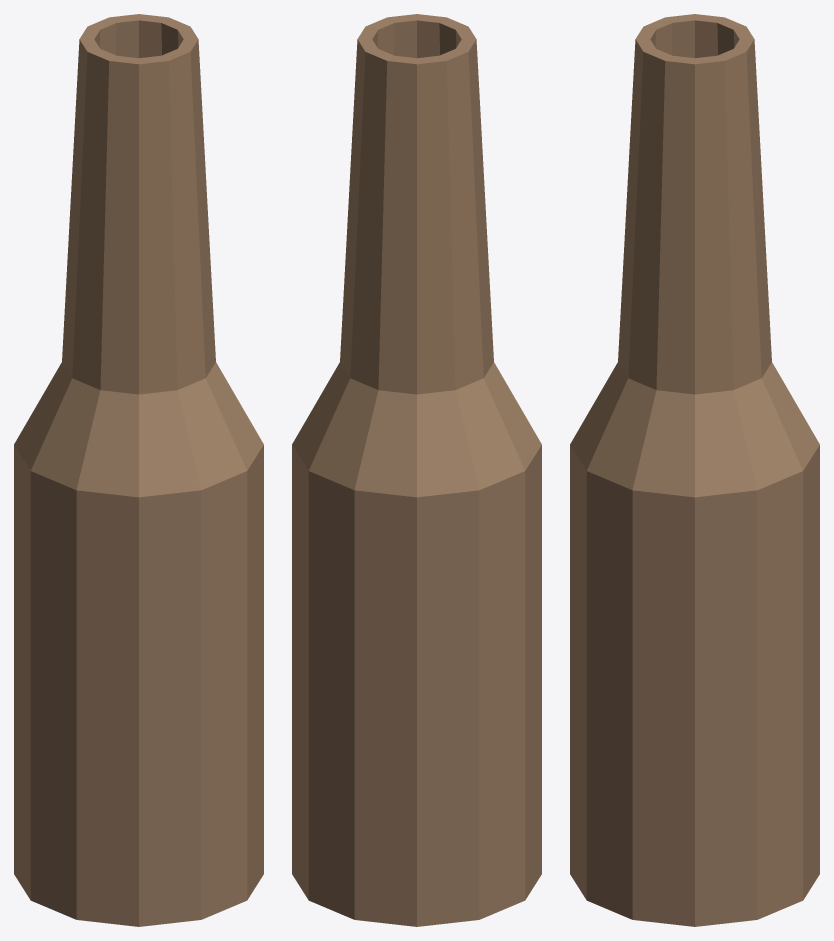
Rendered from Beer.fbx.
3 views of the same model, side by side, from view 1: azimuth 30°, elevation 25°; view 2: azimuth 150°, elevation 25°; view 3: azimuth 270°, elevation 25° (orthographic).
Visible parts, largest first — view 1: pCylinder25; view 2: pCylinder25; view 3: pCylinder25.
Part boxes in pixels (<box>): pCylinder25: <box>14,14,263,926</box>; pCylinder25: <box>292,14,541,926</box>; pCylinder25: <box>570,14,819,926</box>.
Bounding box in the file's own units: 0.062 × 0.2285 × 0.062.
